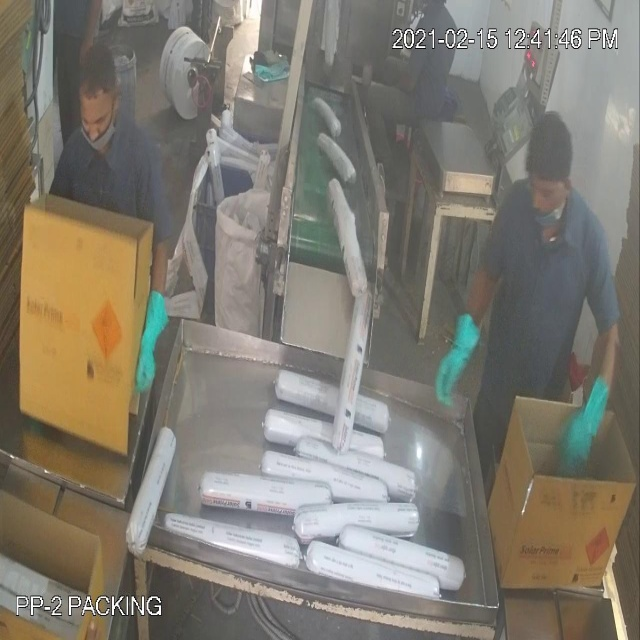Guantes: (547, 348, 620, 484), (432, 296, 494, 428), (126, 276, 180, 413)
Sin_guantes: (366, 58, 432, 97)
